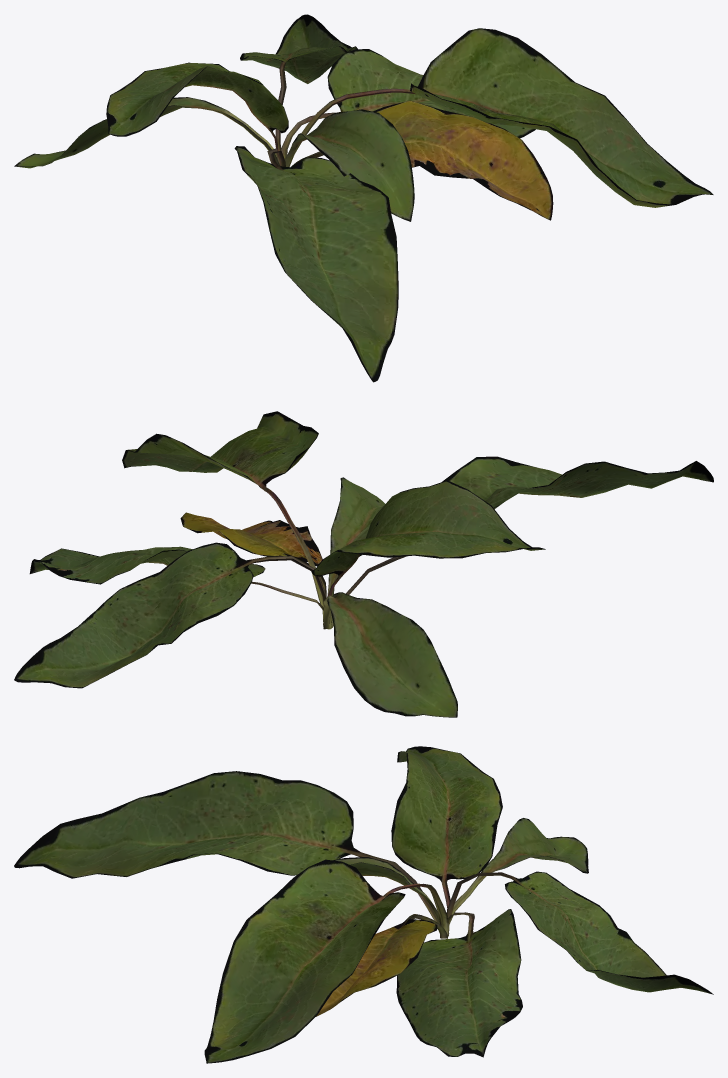
File: nat-weed.glb
3 renders of one model, top to bottom at view 1: azimuth 30°, elevation 25°; view 2: azimuth 150°, elevation 25°; view 3: azimuth 270°, elevation 25°, orthographic. The views are drawn at different scales.
Parts seen in each view (by area): view 1: weed_plant_02_a_LOD0; view 2: weed_plant_02_a_LOD0; view 3: weed_plant_02_a_LOD0.
Boxes of the visible parts, x1=… form: weed_plant_02_a_LOD0: x1=14, y1=14, x2=713, y2=382; weed_plant_02_a_LOD0: x1=14, y1=411, x2=713, y2=717; weed_plant_02_a_LOD0: x1=14, y1=746, x2=713, y2=1063.
Bounding box in the file's own units: 0.2194 × 0.0724 × 0.2909.
1 material, 1 textured.
